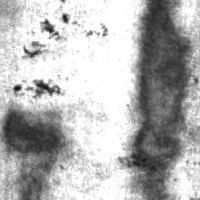patches: (129, 3, 193, 200), (2, 104, 68, 158), (13, 151, 53, 198)
